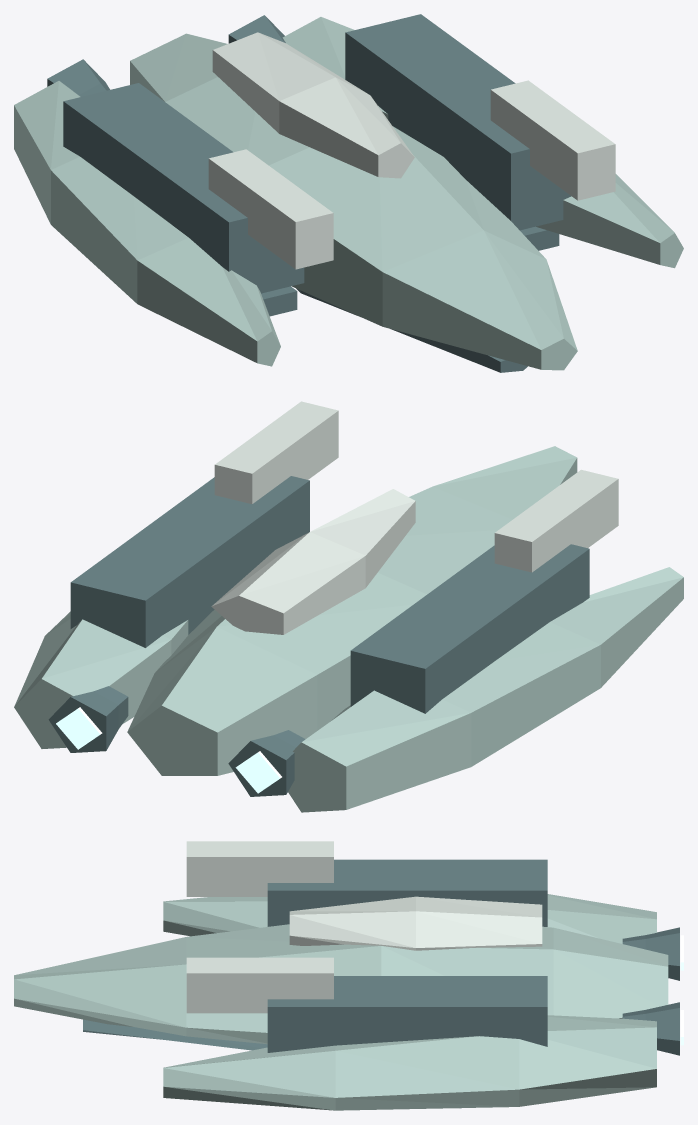
3 views of the same model, one above another, from view 1: azimuth 30°, elevation 25°; view 2: azimuth 150°, elevation 25°; view 3: azimuth 270°, elevation 25° (orthographic). The views are drawn at different scales.
Bounding box in the file's own units: 12.51 × 4.35 × 18.18.
